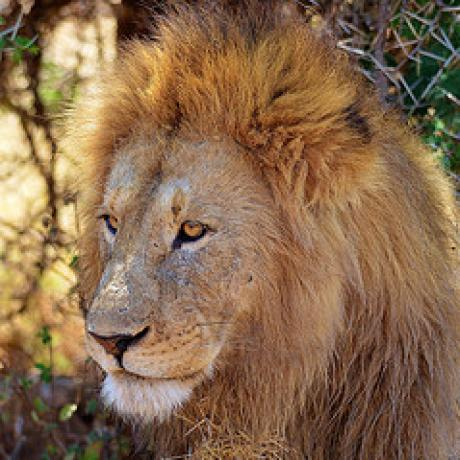Lion: (55, 0, 460, 460)
